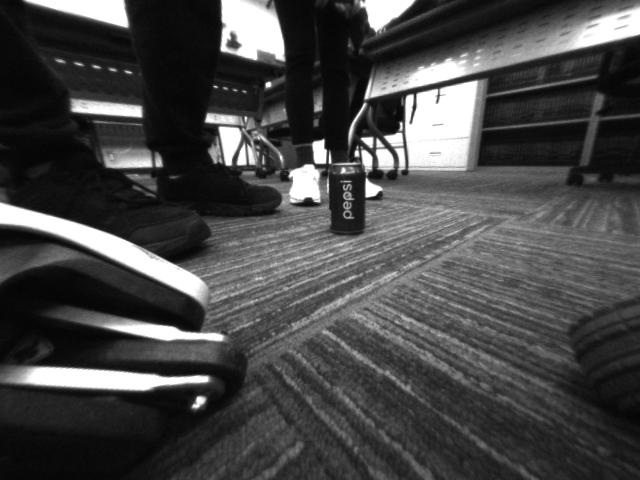can: (326, 158, 369, 237)
